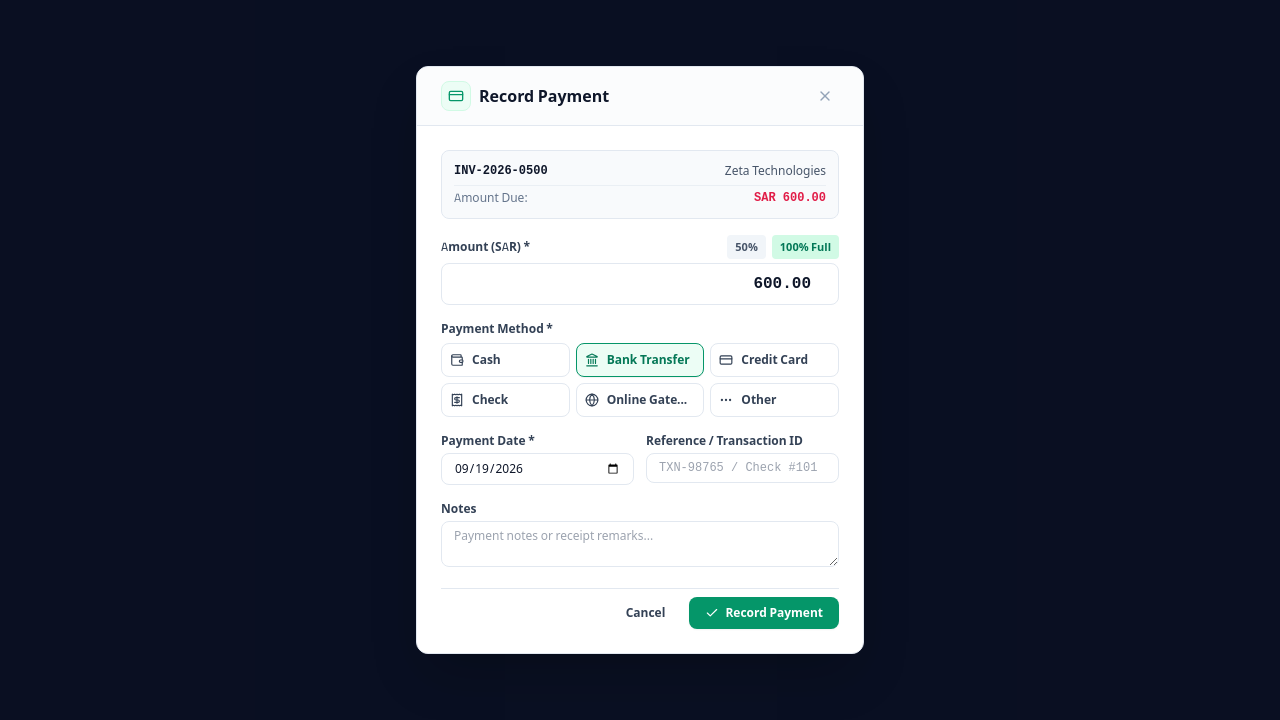
Test: Integration Test: PaymentModal Component (AC5 & Overpayment Validation) › rejects zero and negative payment amounts
The image size is (1280, 720).
//  Enter 0
Replace the text in the number field with "0" at (640, 284), box [441, 263, 839, 305]
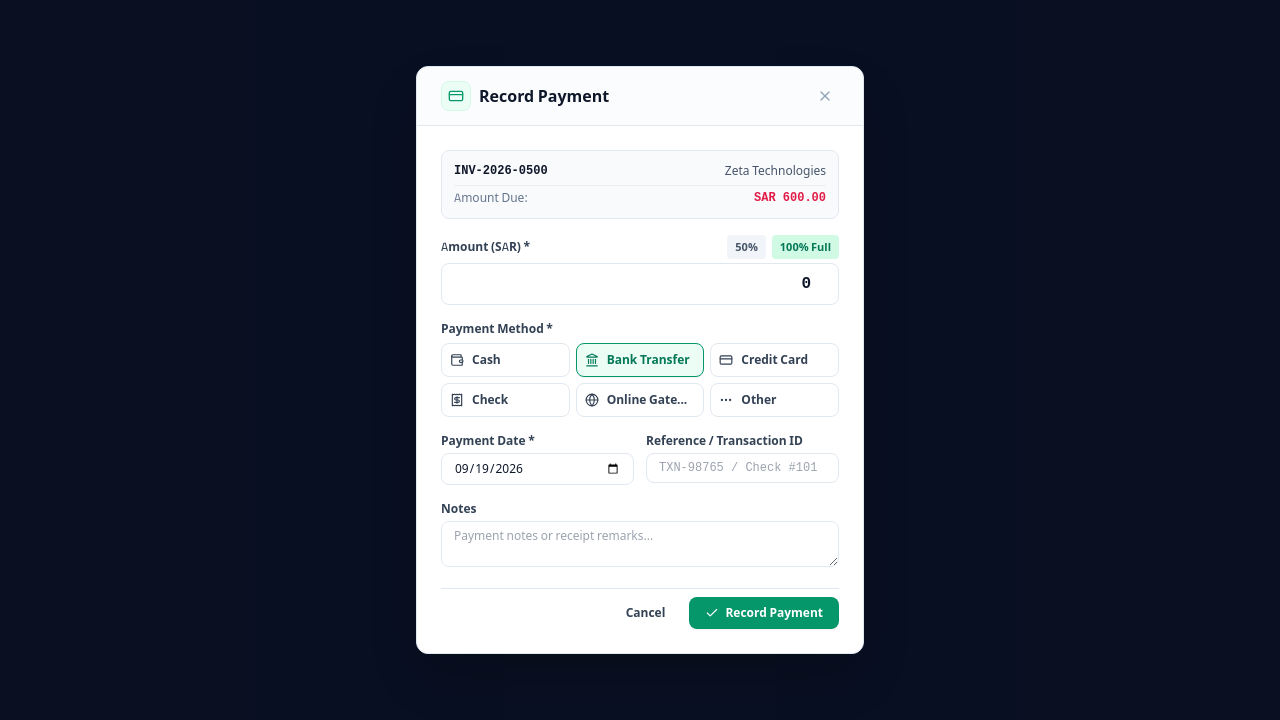
Click the button "Record Payment" at (764, 613), box [689, 597, 839, 629]
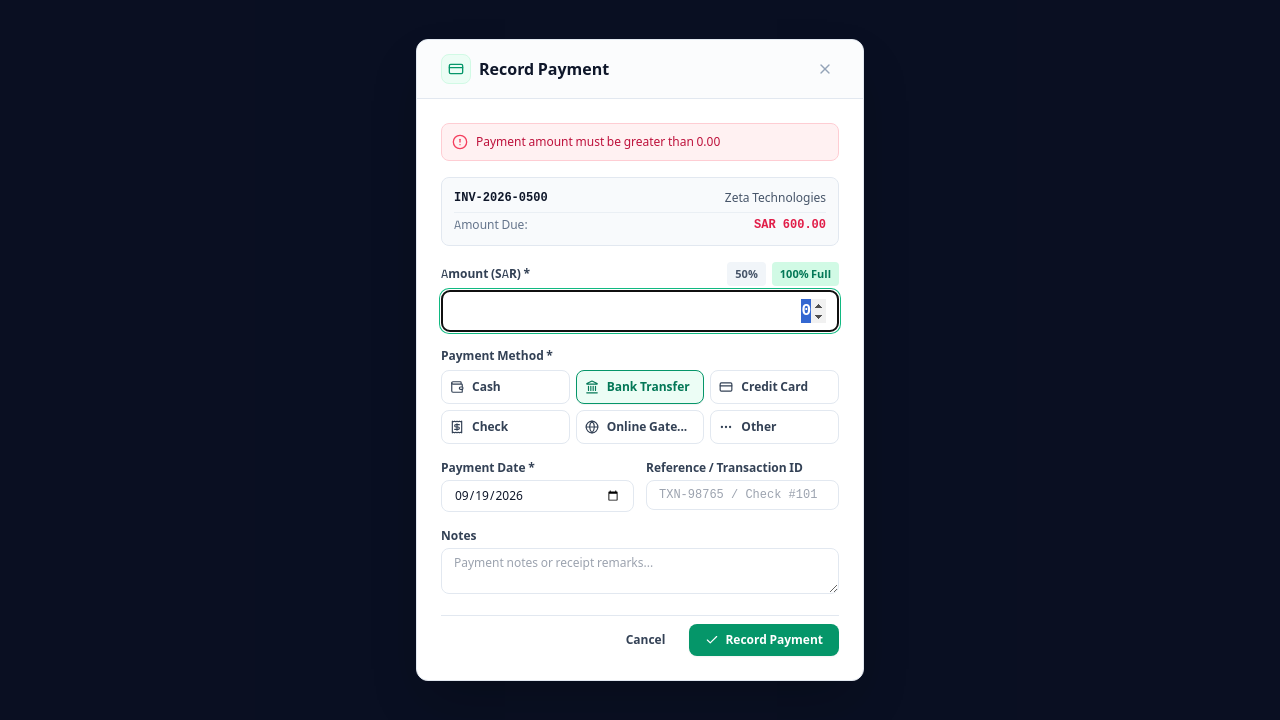
Expected: the text "Payment amount must be greater than 0.00" is shown, [476, 134, 720, 150]
